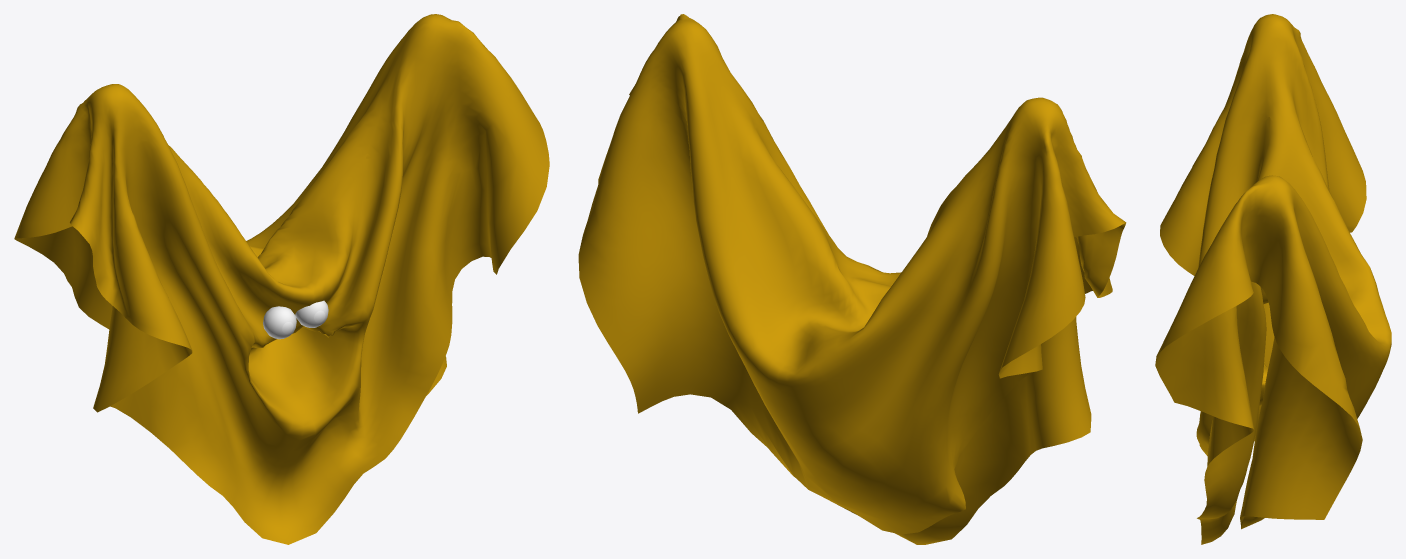
The picture shows the model from 3 angles, left to right: view 1: azimuth 30°, elevation 25°; view 2: azimuth 150°, elevation 25°; view 3: azimuth 270°, elevation 25°; orthographic projection. The views are drawn at different scales.
Visible parts, largest first — view 1: Group52575, Sphere078, Sphere079; view 2: Group52575; view 3: Group52575.
Part boxes in pixels (x1=…): Group52575: x1=14, y1=14, x2=549, y2=544; Sphere078: x1=263, y1=306, x2=296, y2=339; Sphere079: x1=295, y1=300, x2=328, y2=327; Group52575: x1=578, y1=14, x2=1126, y2=544; Group52575: x1=1155, y1=14, x2=1391, y2=544.
Size of the model in its own units: 0.1685 by 0.1621 by 0.0764.
